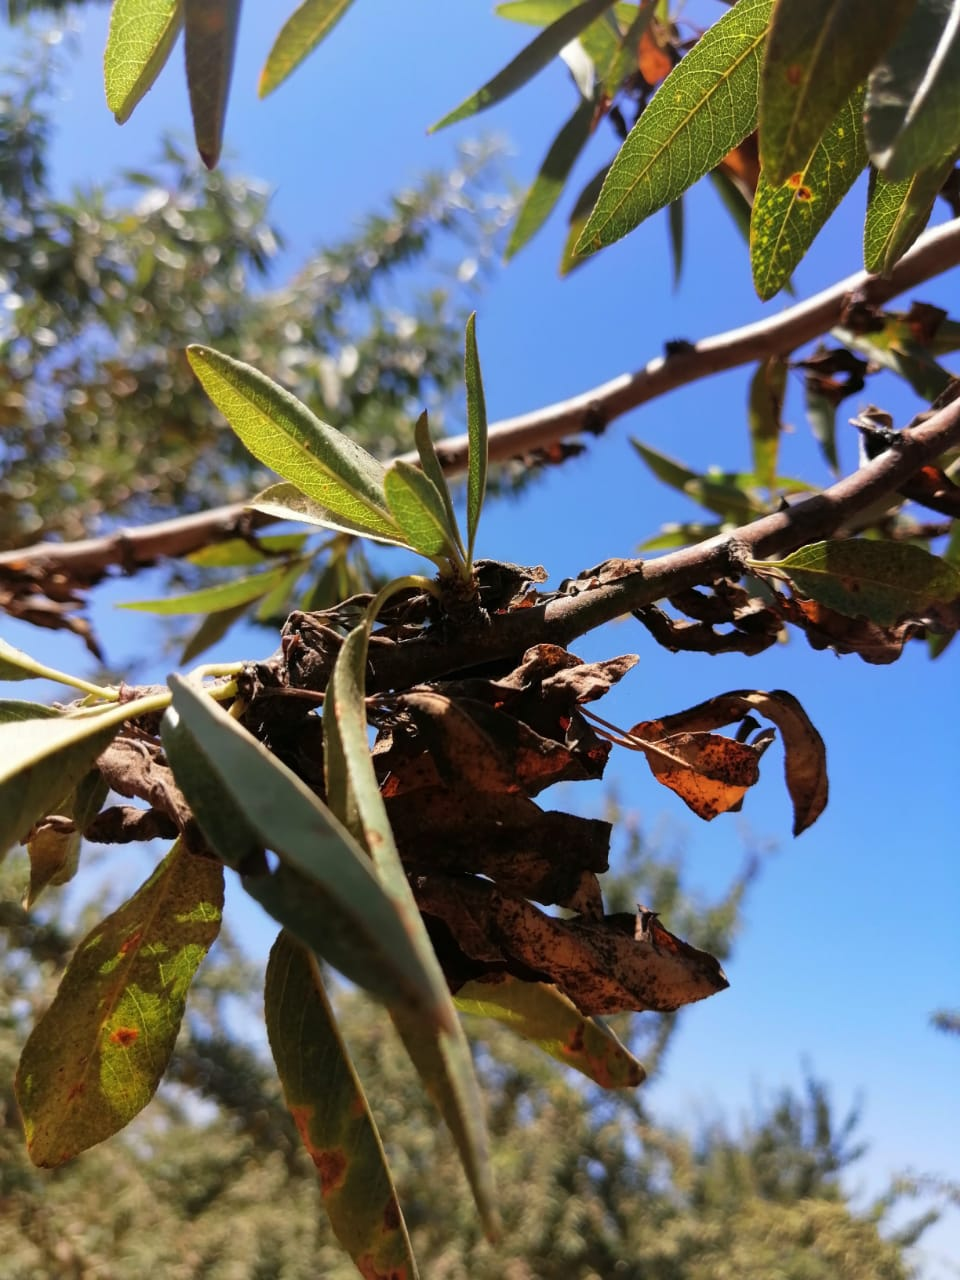scolytes: (21, 538, 899, 1017)
